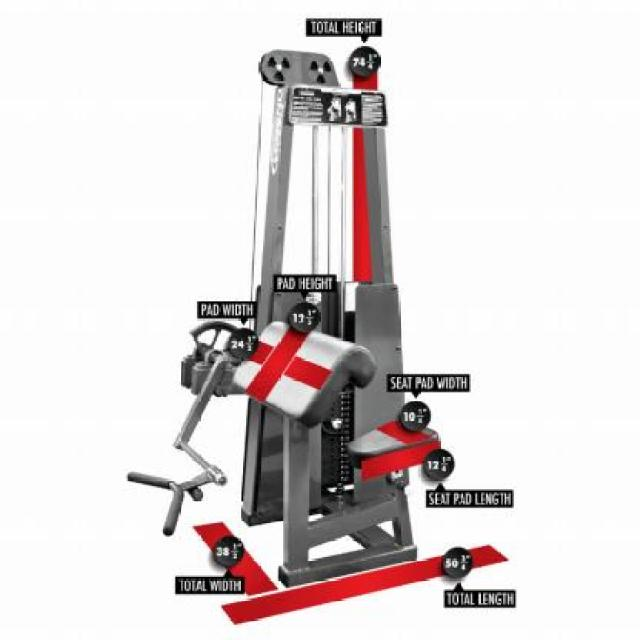arm curl machine: (129, 52, 442, 563)
